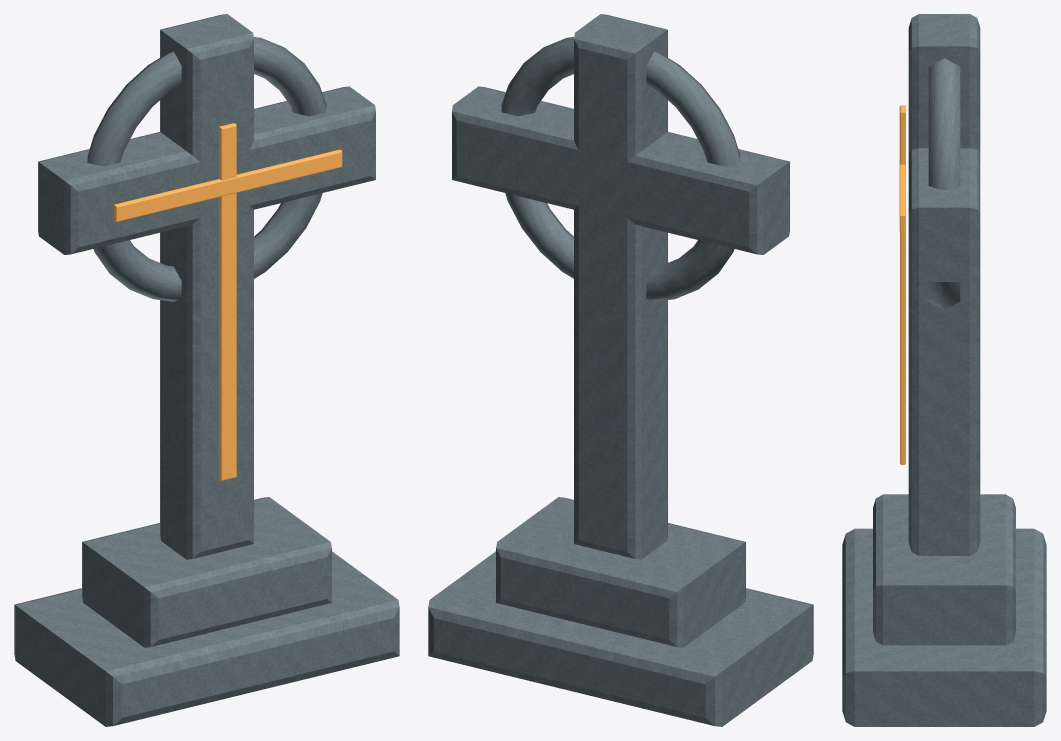
Rendered from hollowwick-halloween-celtic-cross-marker-2f15ad5c__21628.glb.
3 views of the same model, side by side, from view 1: azimuth 30°, elevation 25°; view 2: azimuth 150°, elevation 25°; view 3: azimuth 270°, elevation 25° (orthographic).
Parts seen in each view (by area): view 1: celtic-cross-marker; view 2: celtic-cross-marker; view 3: celtic-cross-marker.
Part boxes in pixels (left/top/right/bottom): celtic-cross-marker: left=14, top=14, right=399, bottom=726; celtic-cross-marker: left=428, top=14, right=813, bottom=726; celtic-cross-marker: left=842, top=14, right=1046, bottom=726.
Size of the model in its own units: 0.7 by 1.35 by 0.4.
2 materials, 1 textured.
